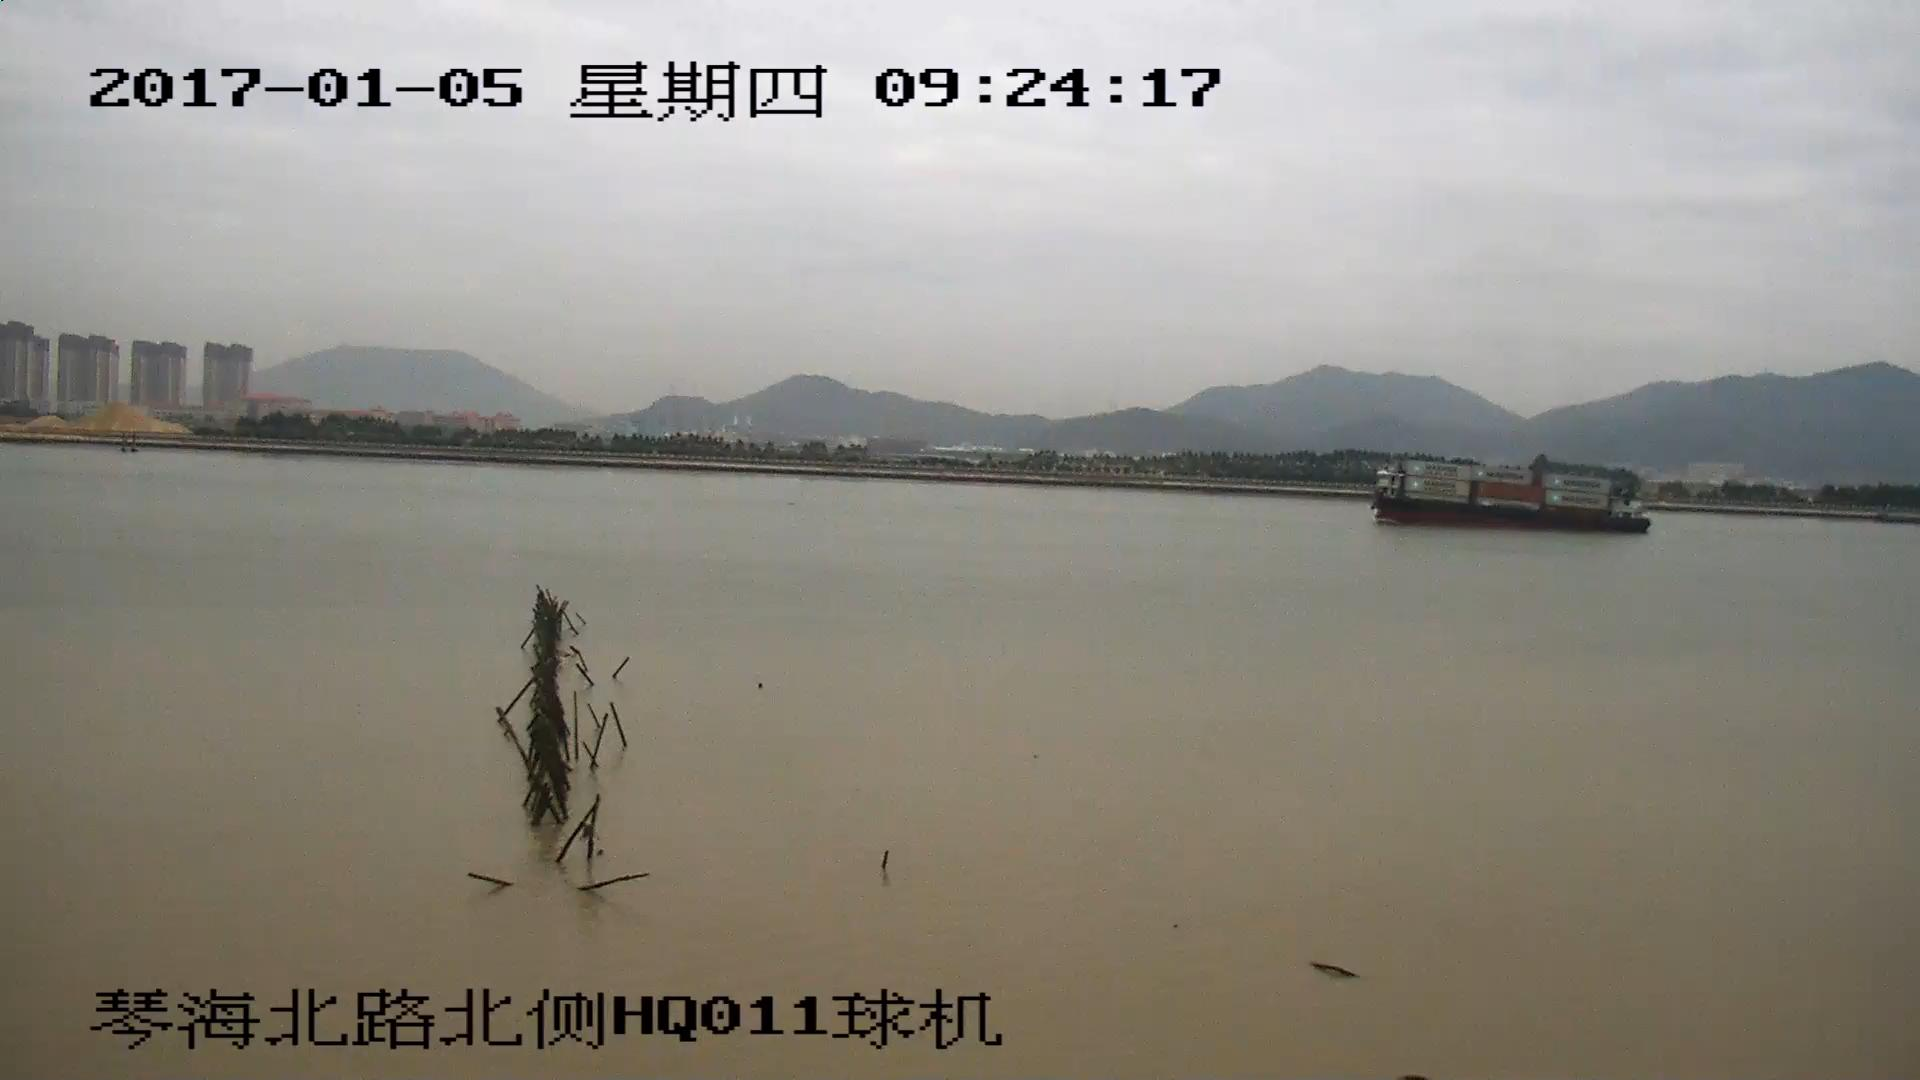container ship: (1375, 461, 1653, 532)
